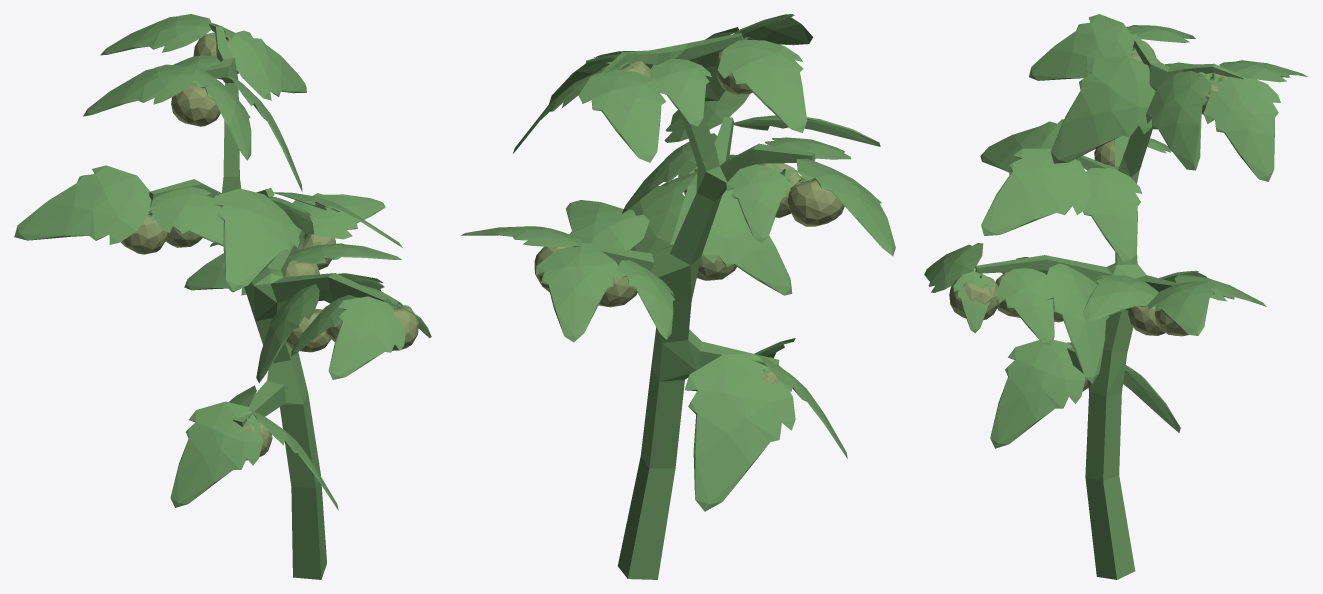
Rendered from TomatTahap2.fbx.
3 renders of one model, left to right at view 1: azimuth 30°, elevation 25°; view 2: azimuth 150°, elevation 25°; view 3: azimuth 270°, elevation 25°, orthographic. The views are drawn at different scales.
Parts seen in each view (by area): view 1: TomatTahap2.001; view 2: TomatTahap2.001; view 3: TomatTahap2.001.
Boxes of the visible parts, x1,y1,x2,y2 form: TomatTahap2.001: (14, 14, 431, 579); TomatTahap2.001: (461, 14, 895, 579); TomatTahap2.001: (924, 14, 1307, 579).
Bounding box in the file's own units: 35.44 × 47.29 × 32.7.
